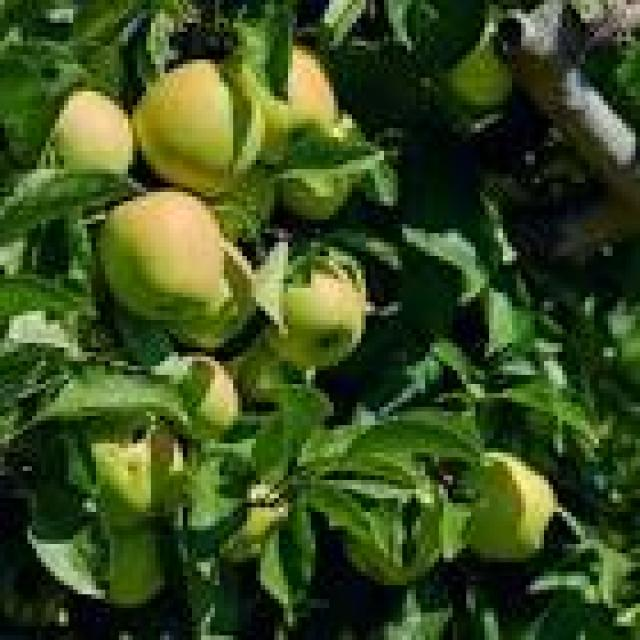Unripe: (97, 188, 224, 326)
